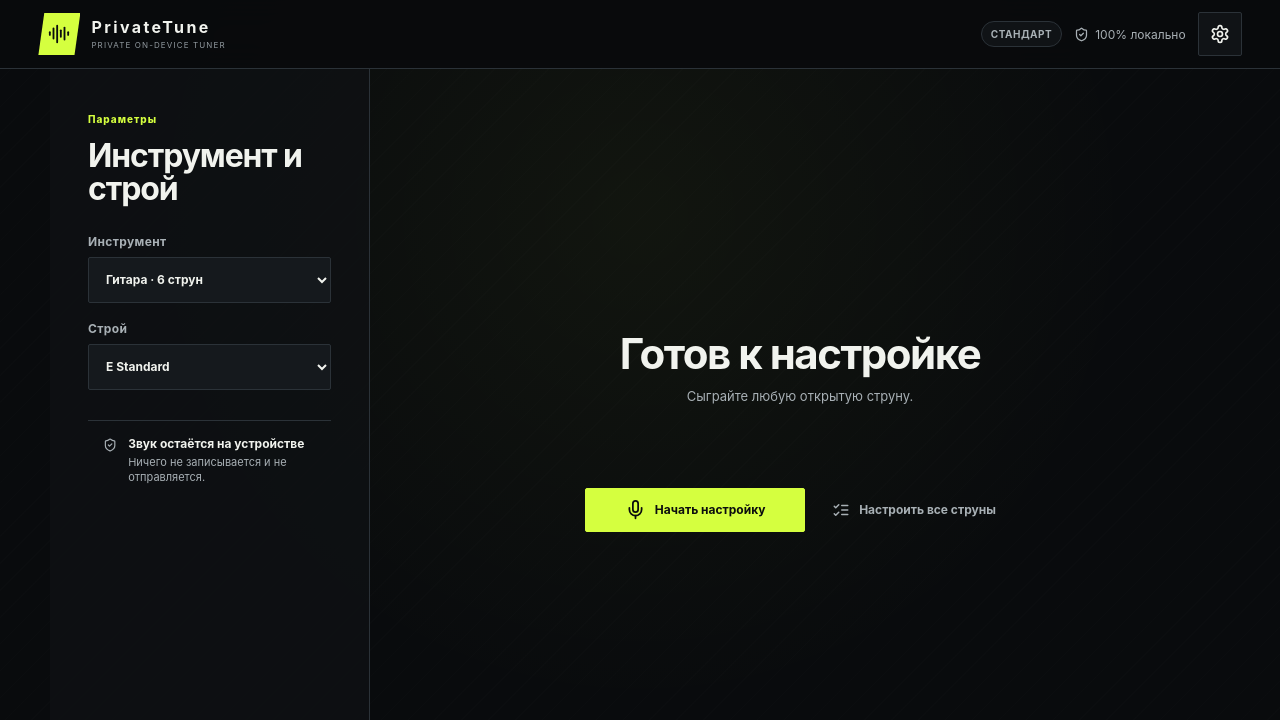
it: App flows › offers direct recovery actions for signal problems
Click the button with class "mic-button".
click(695, 510)  # box [585,488,805,532]
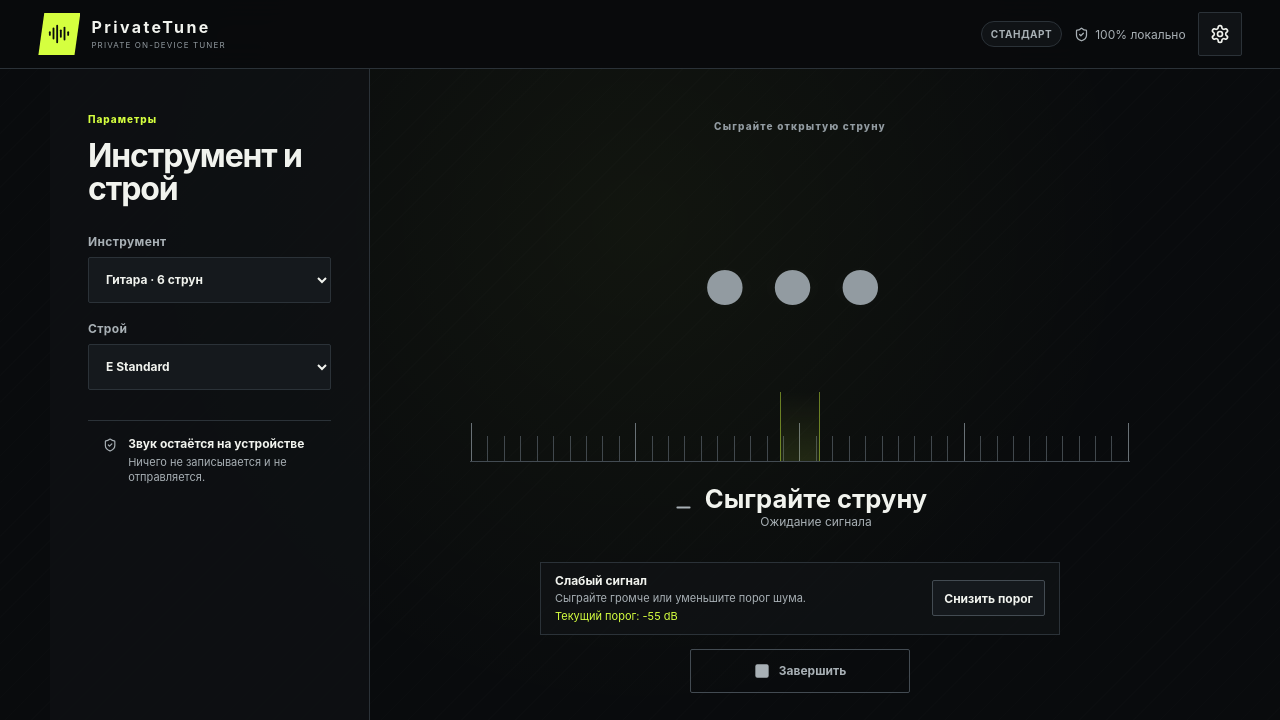
Click the button with class "status-callout__action".
click(989, 598)  # box [932,580,1045,616]
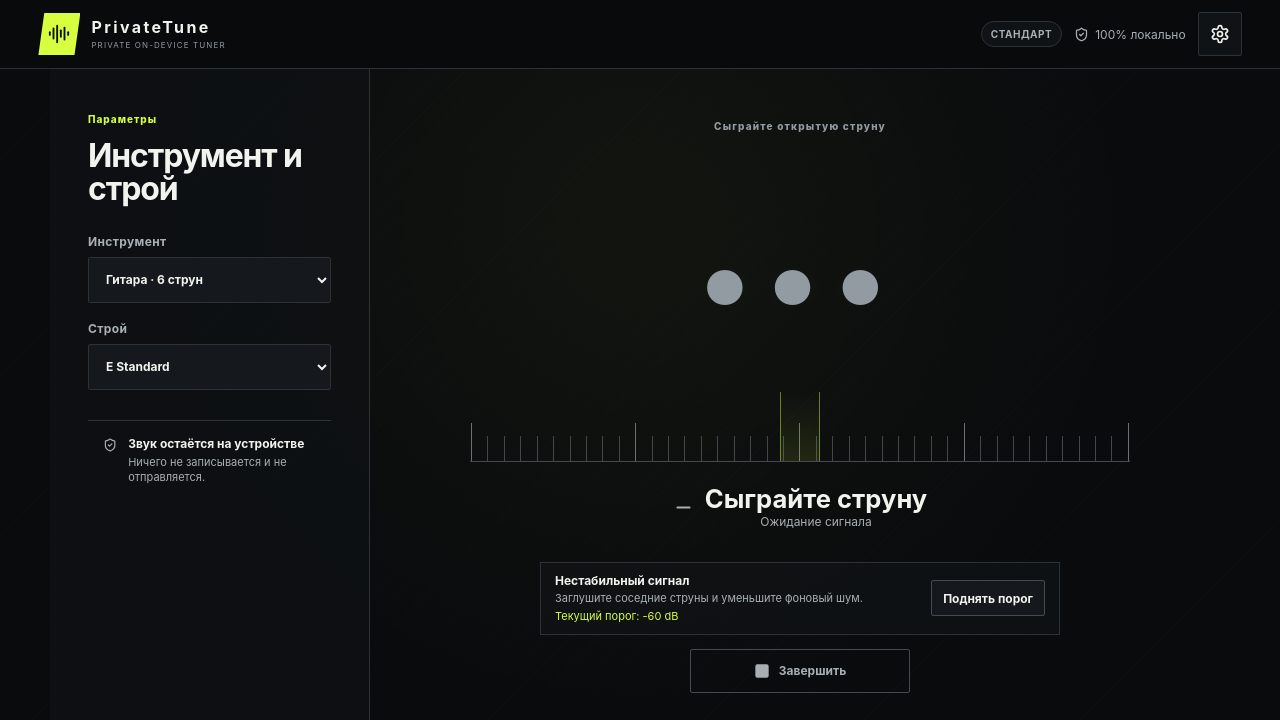
Click the button with class "status-callout__action".
click(988, 598)  # box [931,580,1045,616]
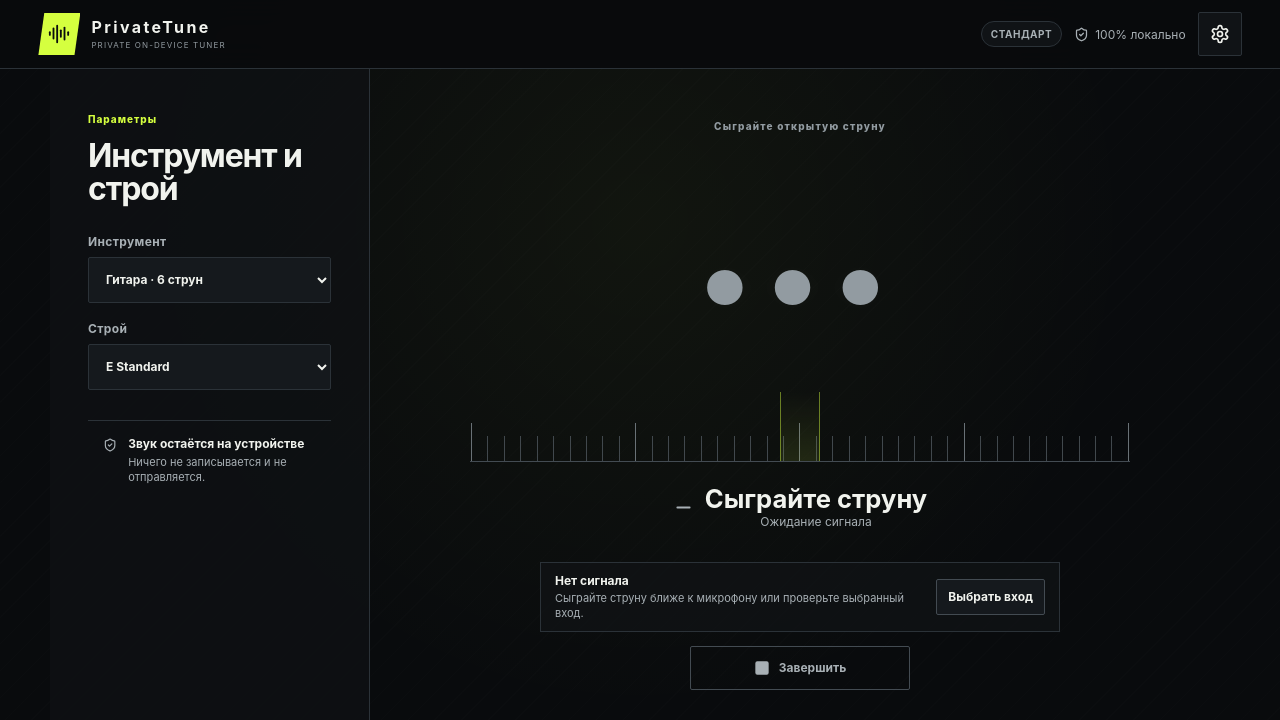
Click the button with class "status-callout__action".
click(991, 597)  # box [936,579,1045,615]
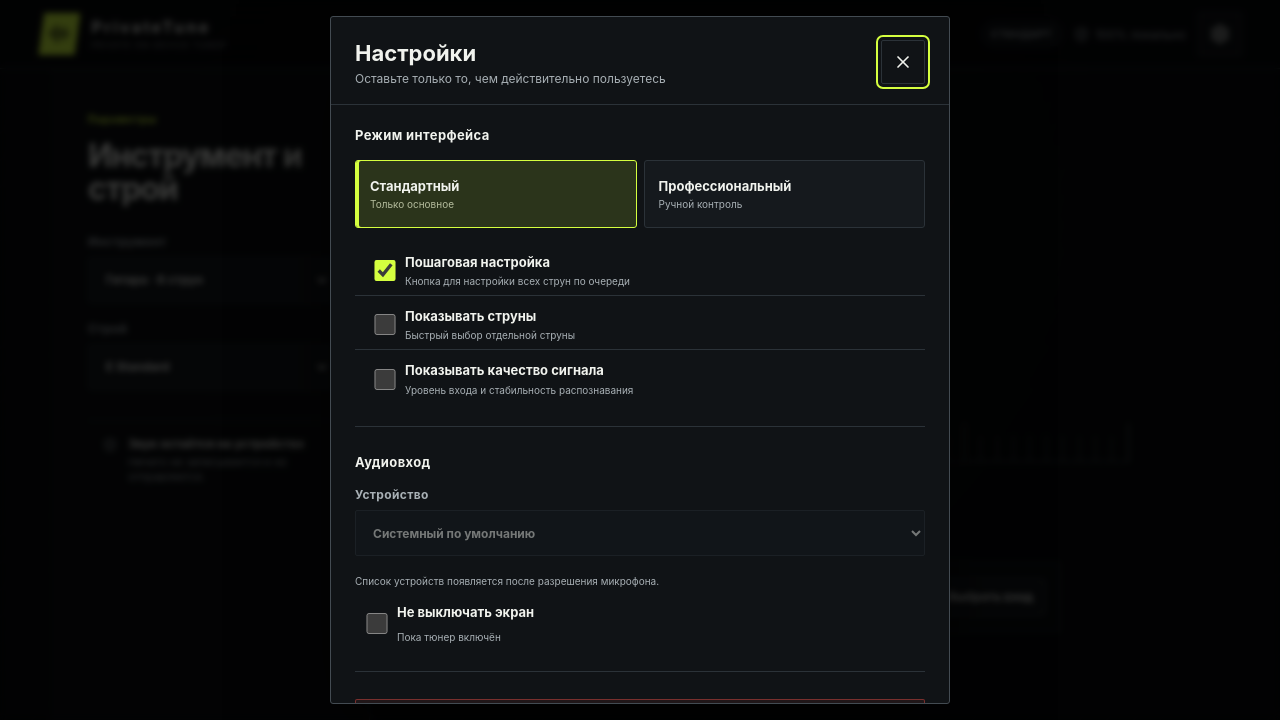
Now the dialog is shown, box [330,16,950,704]
